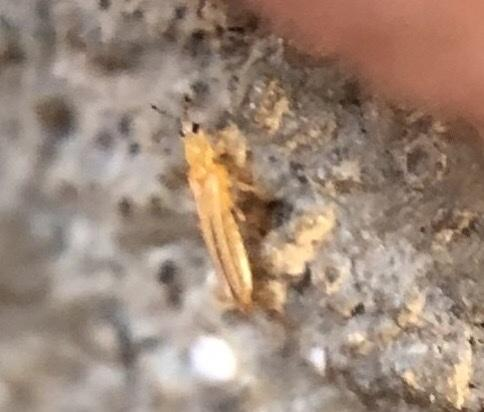tiny_pests: (135, 78, 313, 364)
